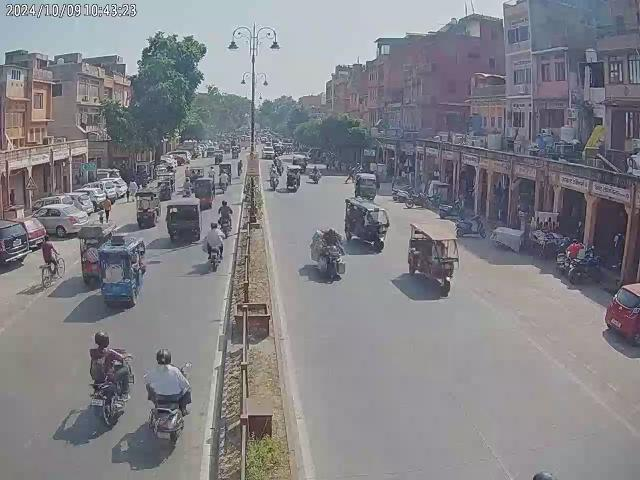auto: (406, 219, 459, 297), (99, 236, 147, 308), (343, 195, 389, 253), (79, 220, 116, 285), (164, 197, 202, 245), (134, 190, 158, 228), (354, 172, 378, 200), (285, 166, 301, 192)
bicycle-rider: (38, 234, 66, 288)
car: (604, 280, 640, 349), (30, 201, 92, 239), (76, 178, 128, 199)
helmet: (95, 330, 113, 348), (154, 348, 173, 364), (210, 220, 218, 230), (221, 198, 228, 206)
license_plate: (154, 430, 173, 440), (88, 398, 104, 407)
motorbike: (568, 254, 606, 282), (404, 191, 428, 210)
motorbike-rider: (86, 330, 136, 428), (314, 226, 348, 281), (203, 222, 226, 270), (217, 199, 234, 234), (308, 166, 322, 184)
person: (99, 196, 113, 222)
scooty: (453, 212, 488, 239), (438, 199, 464, 221)
scooty-rider: (142, 348, 194, 448)
